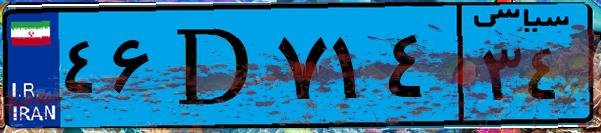1: (330, 28, 385, 110)
3: (475, 38, 525, 113)
4: (385, 28, 445, 110), (57, 26, 110, 100), (525, 38, 570, 115)
6: (110, 28, 158, 98)
7: (270, 28, 330, 110)
D: (158, 12, 270, 120)
